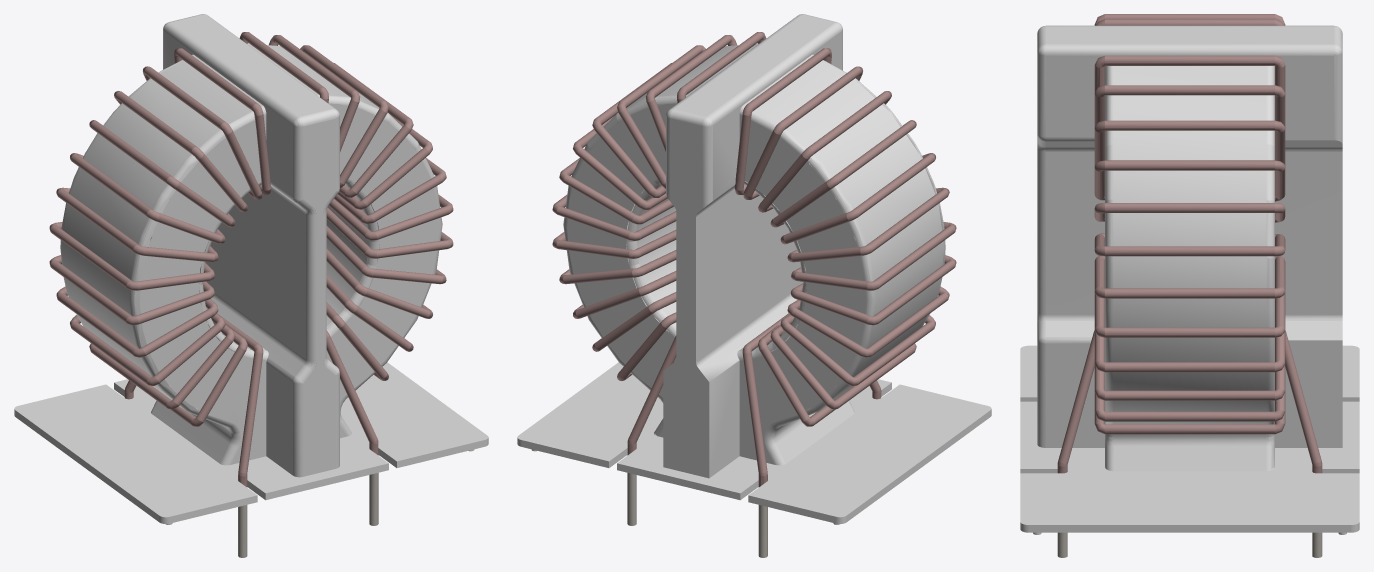
The model's file is inductor.glb.
3 renders of one model, left to right at view 1: azimuth 30°, elevation 25°; view 2: azimuth 150°, elevation 25°; view 3: azimuth 270°, elevation 25°, orthographic. The views are drawn at different scales.
Parts seen in each view (by area): view 1: Geode; view 2: Geode; view 3: Geode.
Boxes of the visible parts, x1,y1,x2,y2 form: Geode: (14,14,488,557); Geode: (517,14,991,557); Geode: (1020,14,1359,557).
Size of the model in its own units: 25 by 31.5 by 20.
